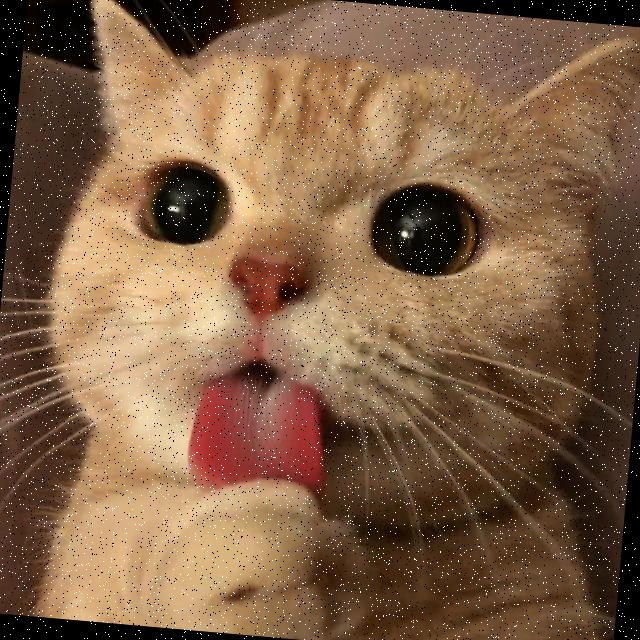Happy: (60, 94, 538, 553)
